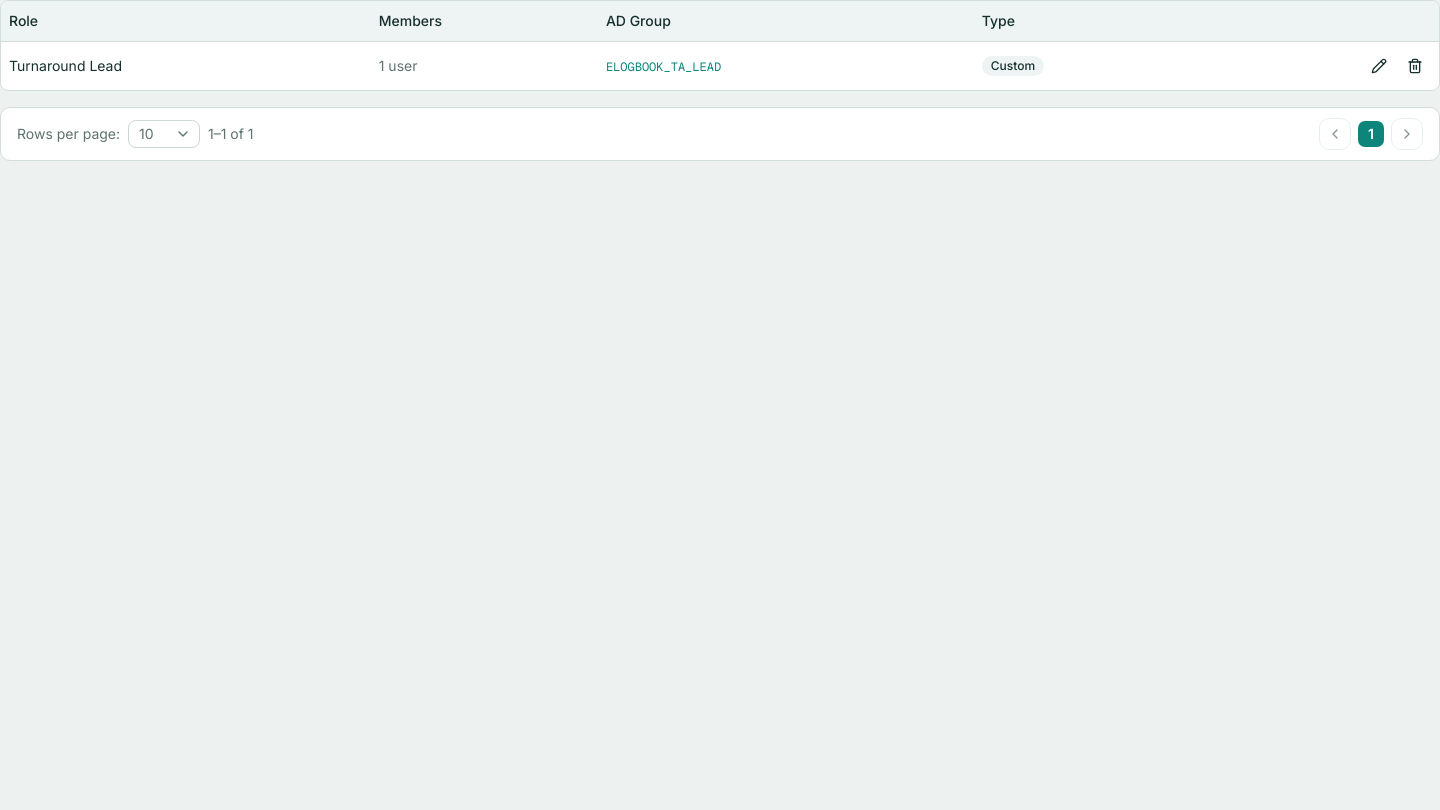
Test case: RolesTable › sends nothing when the confirmation is cancelled
The width and height of the screenshot is (1440, 810).
Click the button named "Delete Turnaround Lead" at (1415, 66), box [1399, 50, 1431, 82]
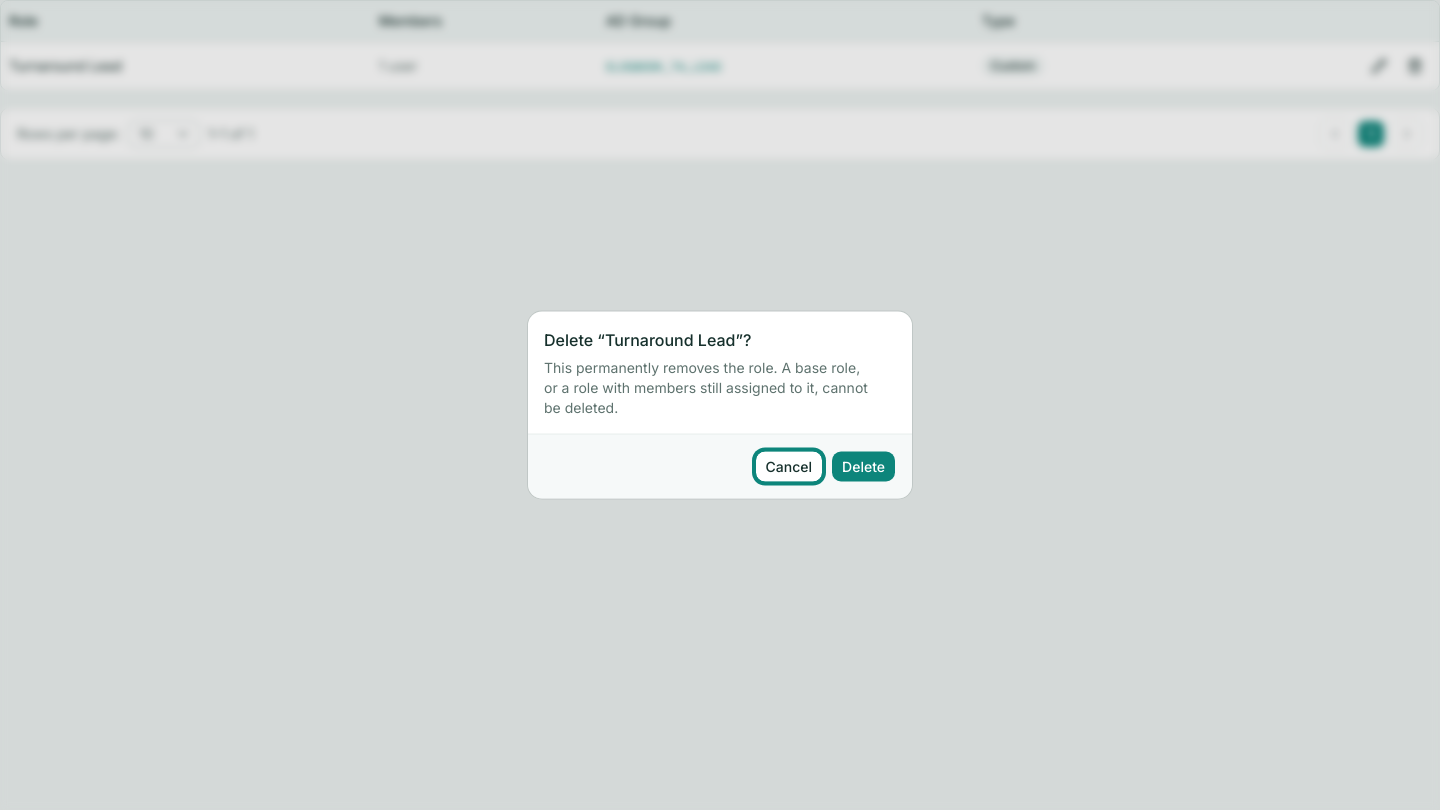
Click the button "Cancel" at (789, 466), box [755, 450, 823, 482]
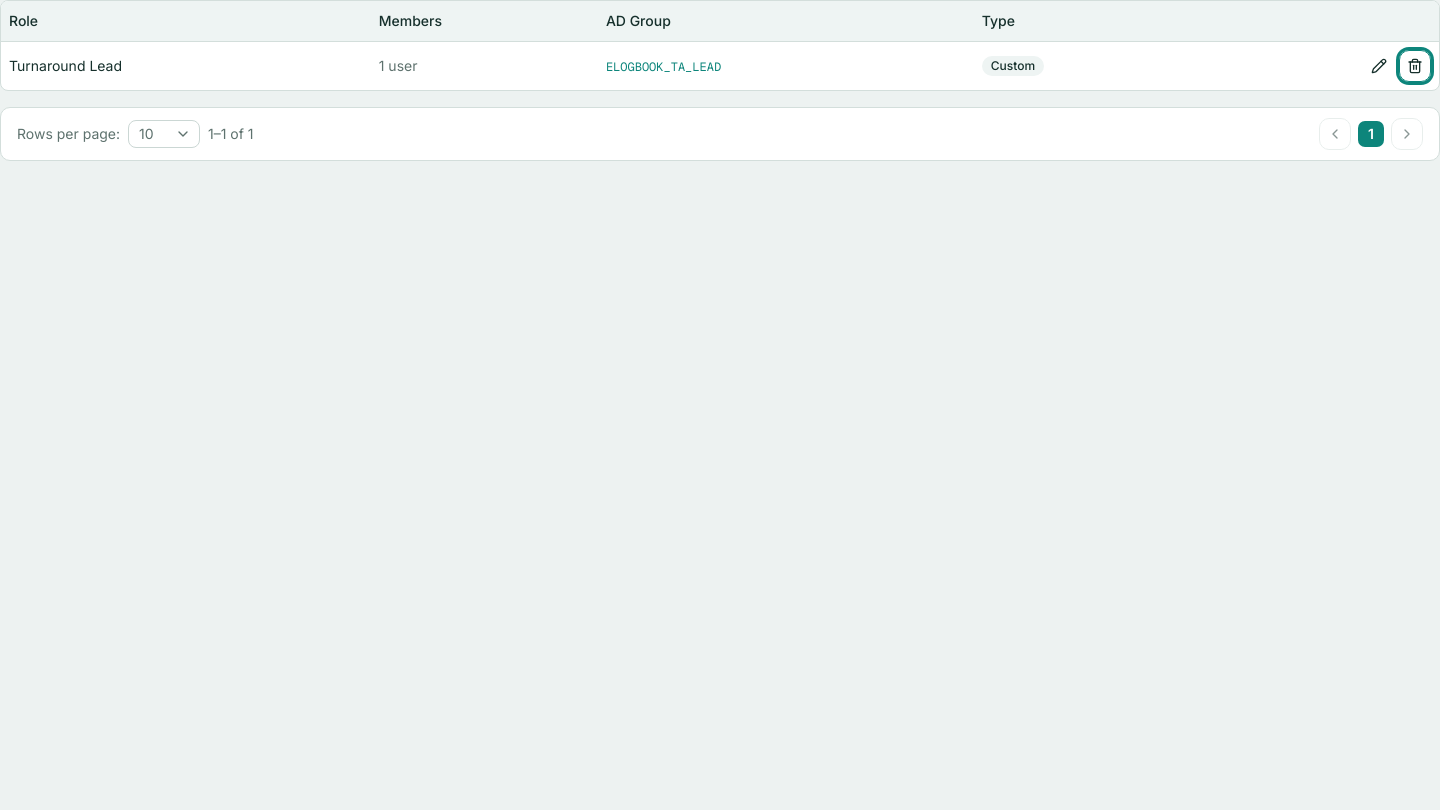
Check: the dialog is gone
